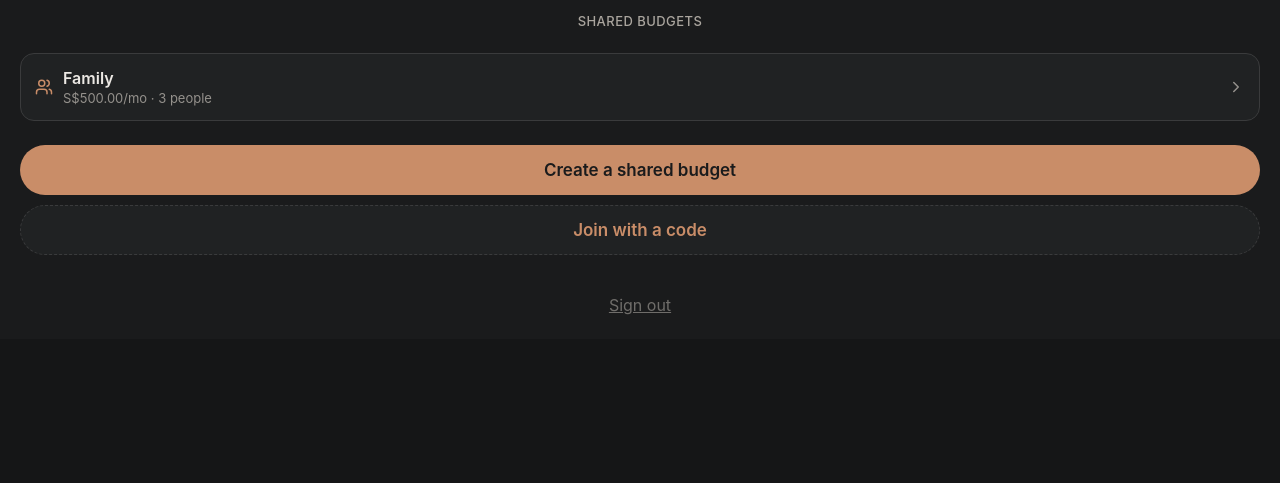
Test case: BudgetList › returns to the list when the create subscreen is cancelled
Click the button "Create a shared budget" at (640, 170), box [20,145,1260,195]
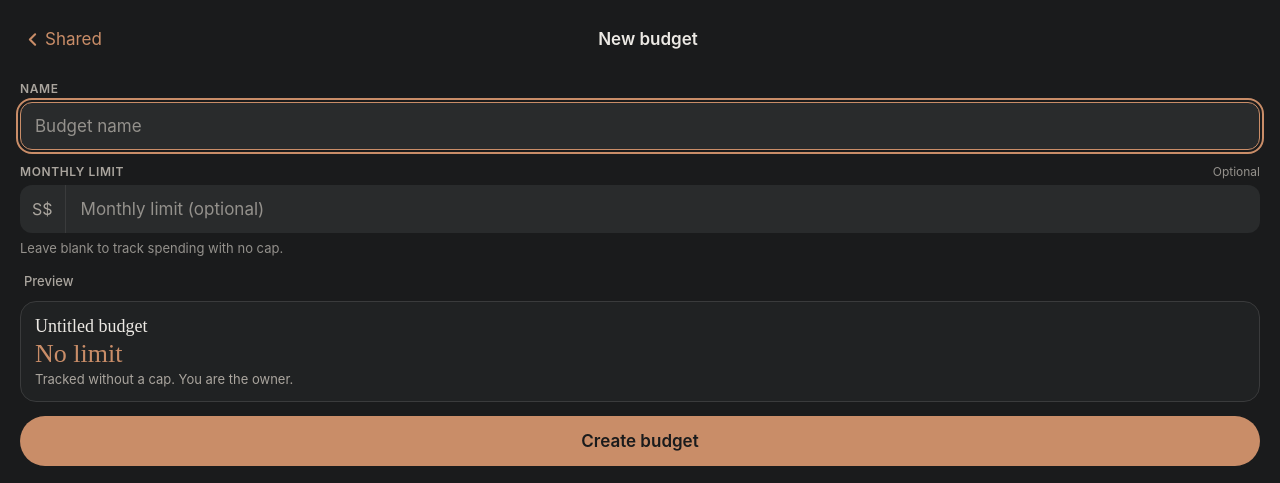
Click the button "Shared" at (62, 39), box [22,17,102,61]
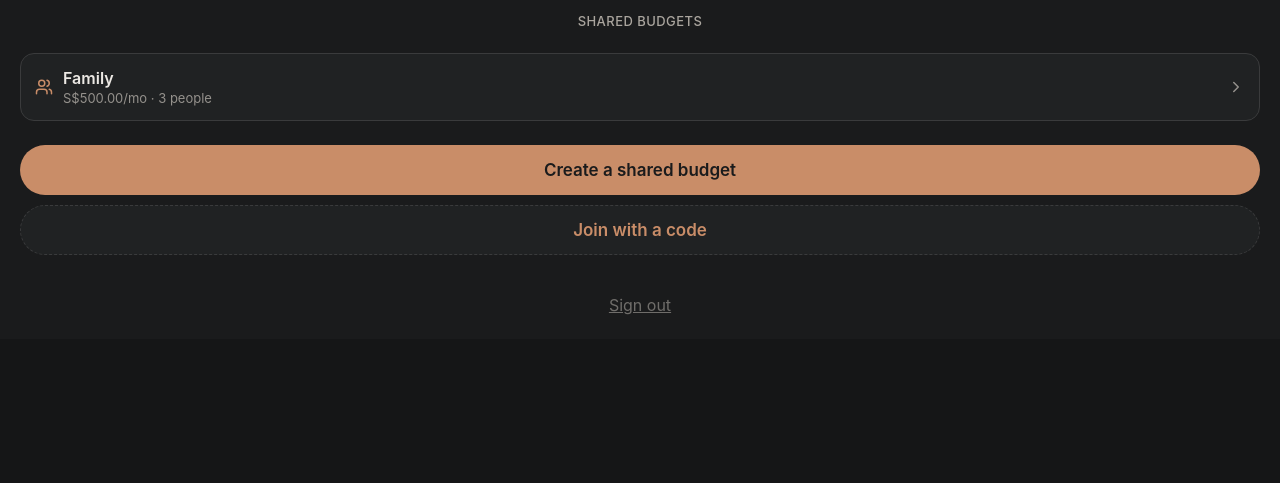
expect the button "Family S$500.00/mo · 3 people" is shown: met, box [20,53,1260,121]
